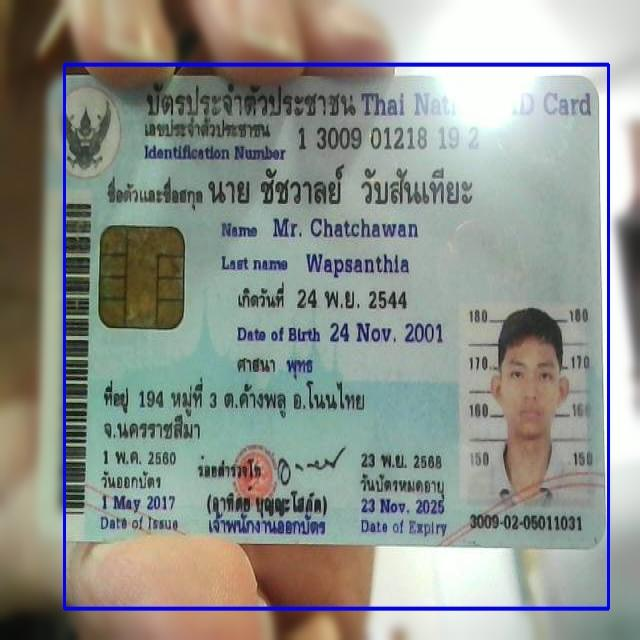Address_th: (96, 376, 372, 445)
Date_of_Birth: (326, 315, 446, 350)
Date_of_Expiry: (358, 493, 451, 518)
Date_of_Issue: (96, 489, 180, 513)
First_Name: (269, 210, 423, 242)
ID_Number: (294, 118, 484, 156)
Image: (462, 301, 596, 506)
Last_Name: (302, 248, 412, 280)
Thai_Name: (203, 157, 476, 212)
